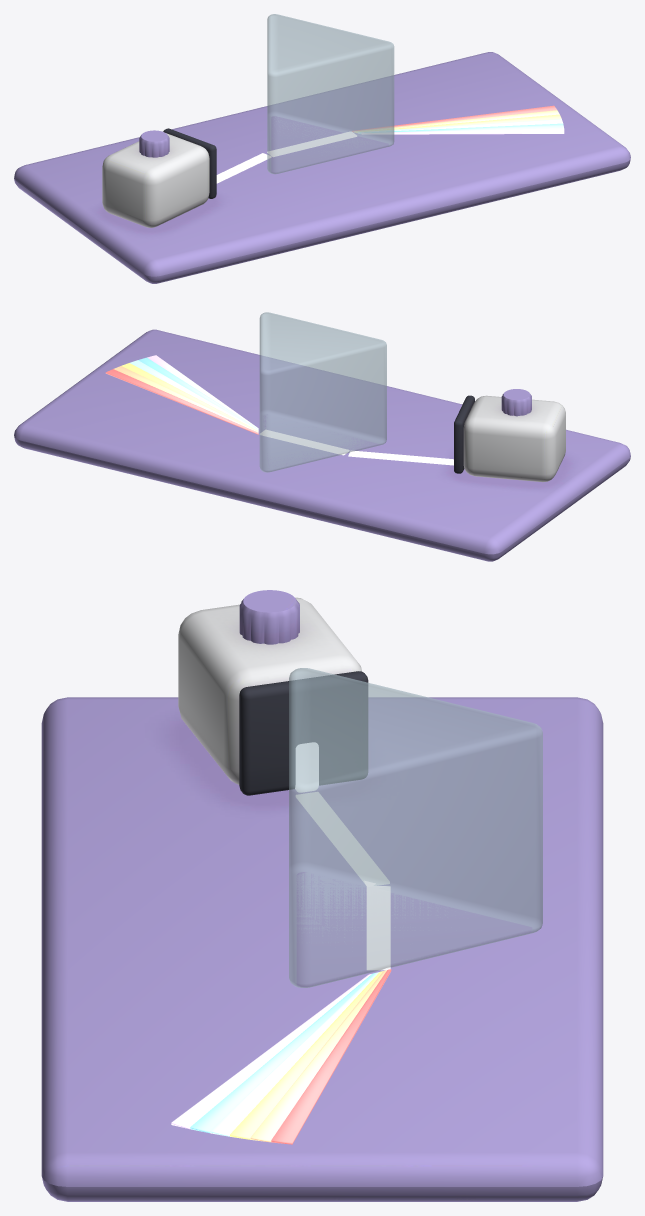
The model's file is glass-prism.glb.
3 renders of one model, top to bottom at view 1: azimuth 30°, elevation 25°; view 2: azimuth 150°, elevation 25°; view 3: azimuth 270°, elevation 25°, orthographic. The views are drawn at different scales.
Parts seen in each view (by area): view 1: glass-prism_body, glass-prism_prism_glass, glass-prism_light_glow; view 2: glass-prism_body, glass-prism_prism_glass, glass-prism_light_glow; view 3: glass-prism_body, glass-prism_prism_glass, glass-prism_light_glow.
Part boxes in pixels (bbox=[...]): glass-prism_body: bbox=[14, 52, 630, 283]; glass-prism_prism_glass: bbox=[267, 14, 394, 174]; glass-prism_light_glow: bbox=[216, 105, 564, 183]; glass-prism_body: bbox=[14, 329, 630, 561]; glass-prism_prism_glass: bbox=[259, 312, 386, 472]; glass-prism_light_glow: bbox=[105, 355, 453, 465]; glass-prism_body: bbox=[41, 590, 603, 1201]; glass-prism_prism_glass: bbox=[289, 668, 542, 987]; glass-prism_light_glow: bbox=[171, 742, 391, 1144].
Size of the model in its own units: 0.26 by 0.064 by 0.13.
Materials: 10 (1 with a texture image).
